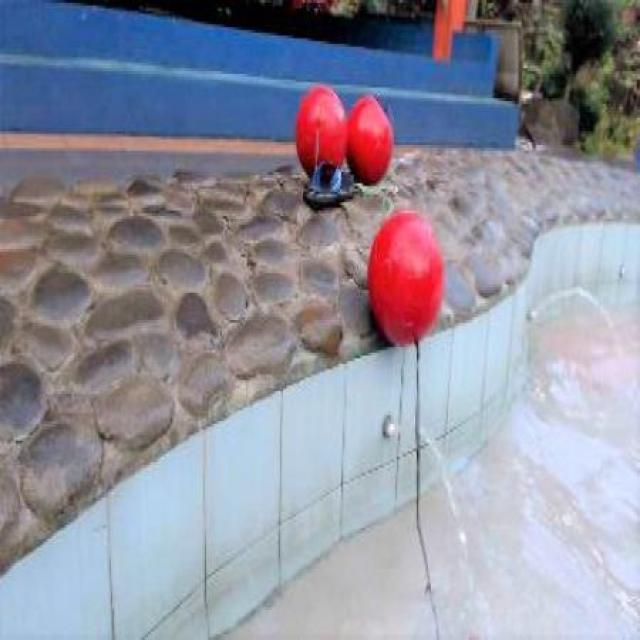buoy: (366, 212, 443, 346), (295, 83, 348, 180), (346, 95, 392, 184)
